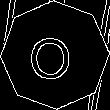O_N: (32, 29, 78, 81)
